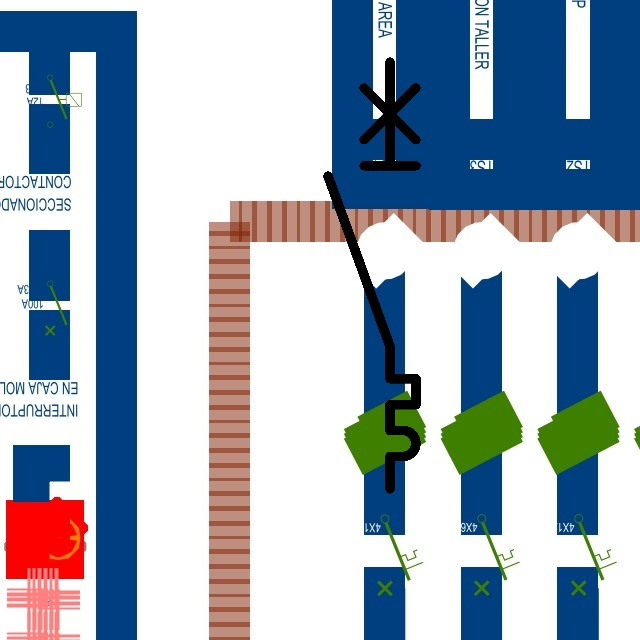interruptor_termomagnetico: (317, 51, 427, 500)
